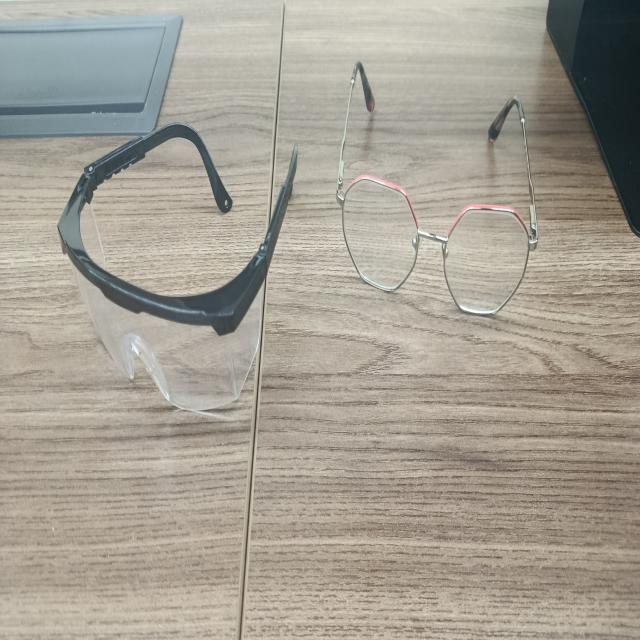oculos-epi: (57, 120, 298, 418)
sem_oculos: (339, 58, 538, 318)
